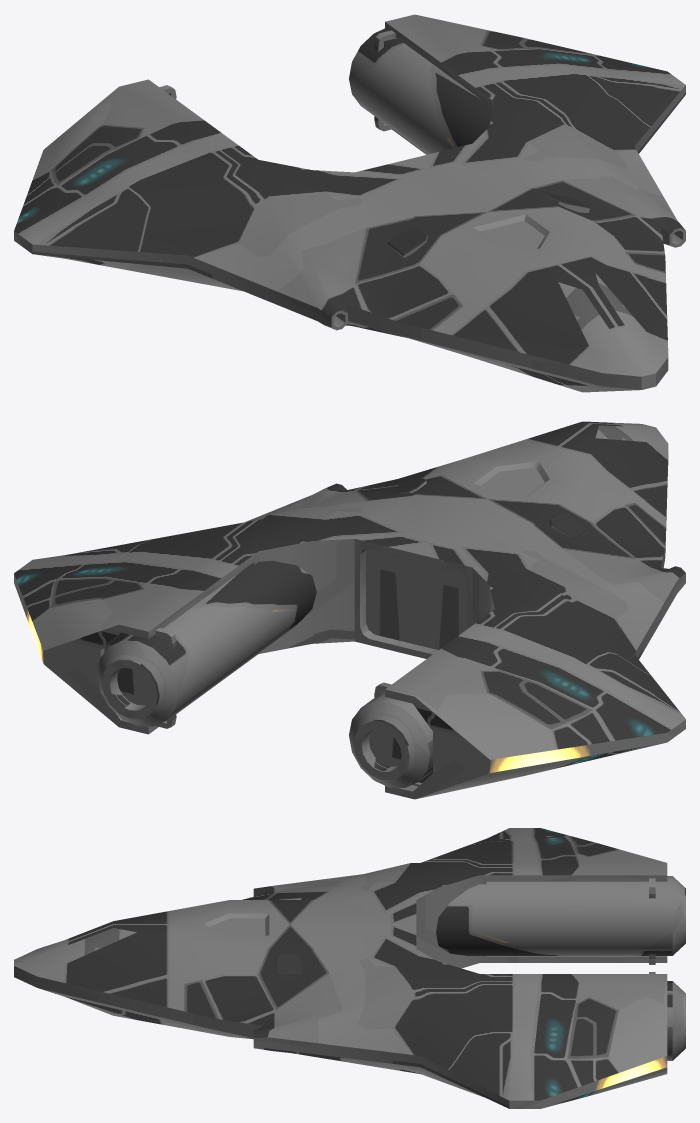
The model's file is Yukon.fbx.
3 renders of one model, top to bottom at view 1: azimuth 30°, elevation 25°; view 2: azimuth 150°, elevation 25°; view 3: azimuth 270°, elevation 25°, orthographic. The views are drawn at different scales.
Visible parts, largest first — view 1: Yukon_LOD0; view 2: Yukon_LOD0; view 3: Yukon_LOD0.
Part boxes in pixels (x1,y1,x2,y2): Yukon_LOD0: (14, 14, 685, 392); Yukon_LOD0: (14, 421, 685, 799); Yukon_LOD0: (14, 828, 685, 1108).
Size of what is drawn, in the model's own units: 4866 by 731 by 5070.
